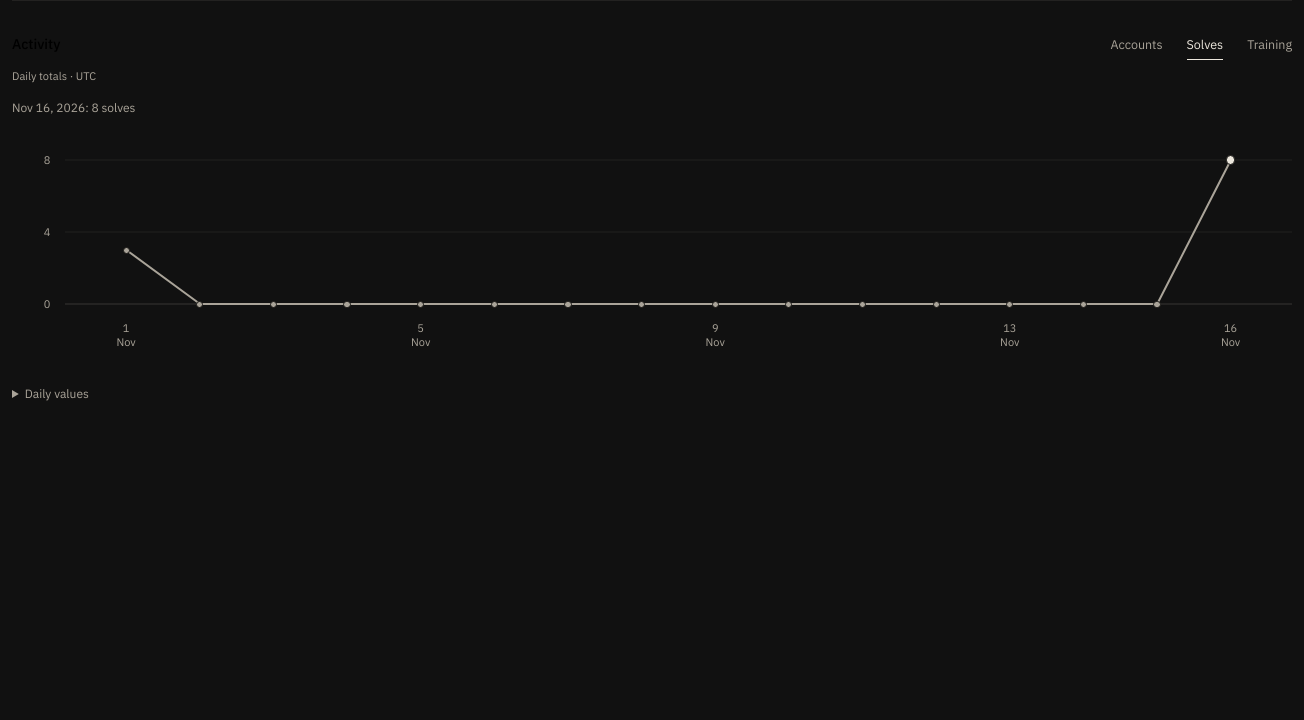
Test: switches charts without changing the exact underlying values
Expected: the picture named "Solves by day" is shown, [65,142,1292,322]
Expected: the element named "Chart scale" reads "0 4 8", [44,153,50,311]
Click the radio button labelled "Accounts" at x=1137, y=44, box [1110,25,1163,63]
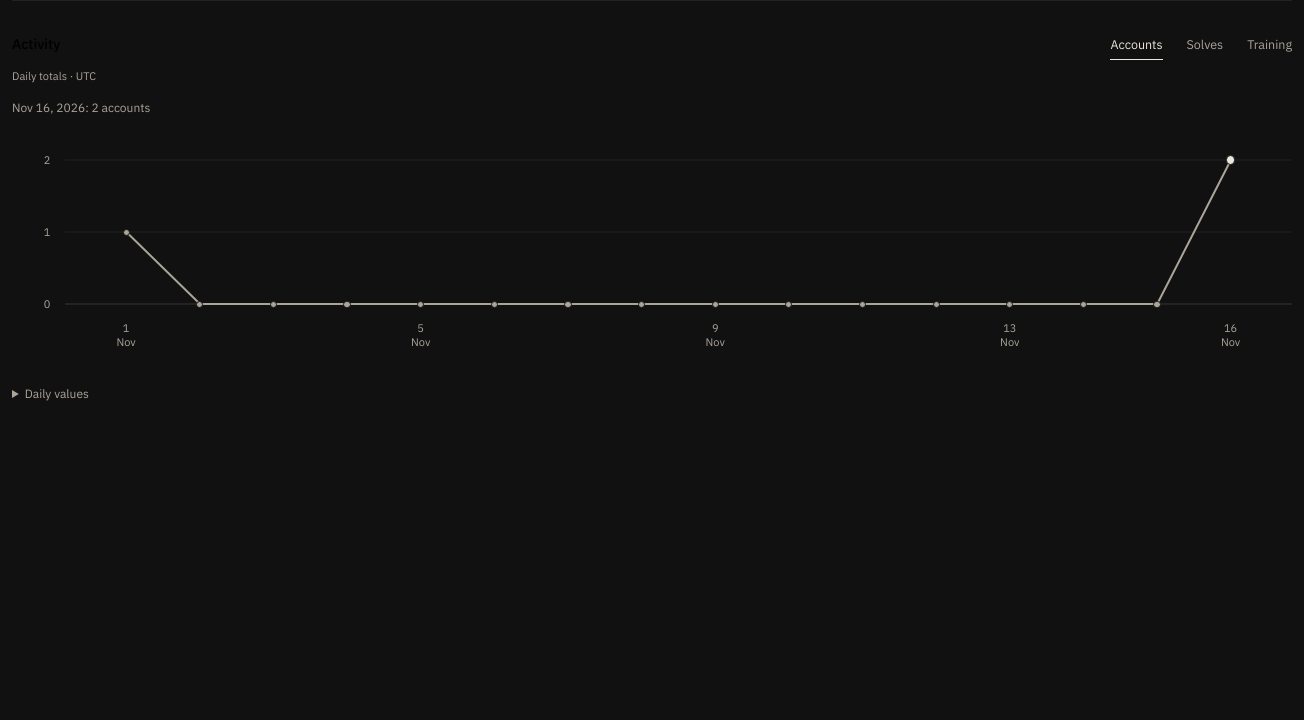
Expected: the picture named "Accounts by day" is shown, [65,142,1292,322]
Click the heading "Daily values" at x=57, y=393, box [25,386,89,401]
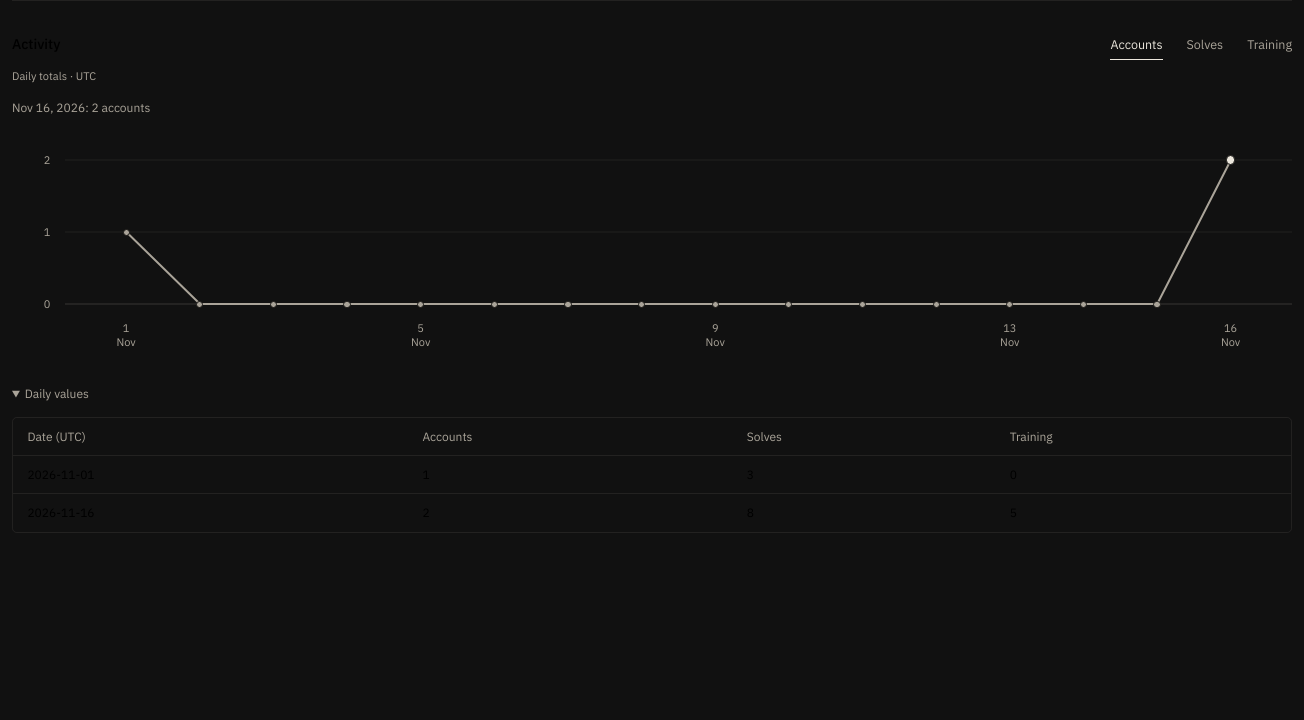
Expected: the row "2026-11-01 1 3 0" is shown, [13,456,1291,494]
Expected: the number of rows is 3, [13,418,1291,455]; [13,456,1291,494]; [13,494,1291,532]
